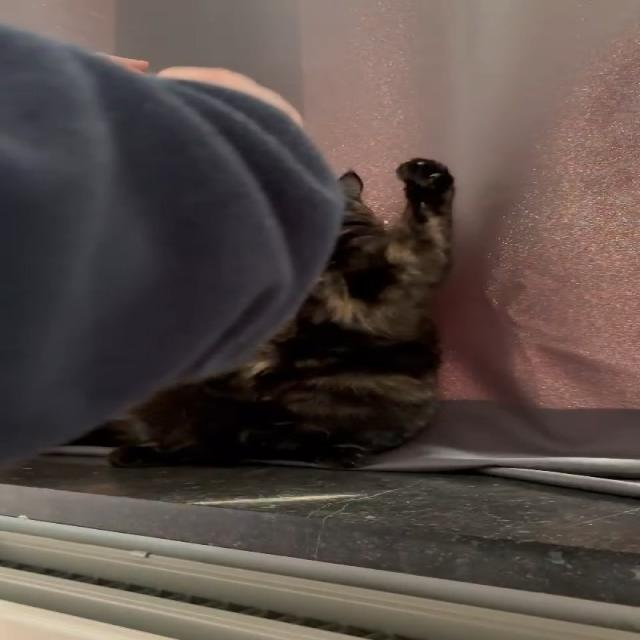authorized: (65, 157, 458, 469)
